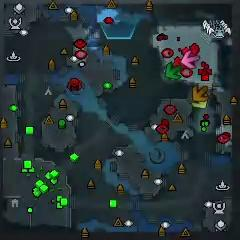x1: (181, 52, 200, 70)
x2: (191, 99, 209, 109)
x4: (165, 63, 182, 80)
x5: (191, 85, 208, 103)
